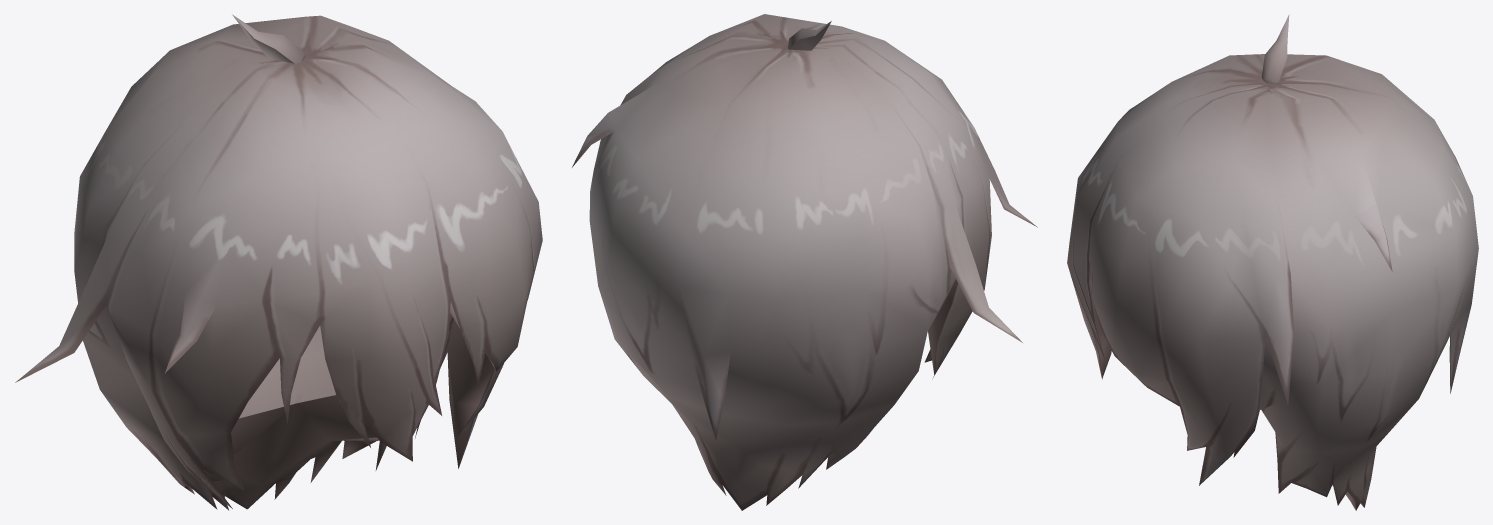
The model's file is hair_m_1.fbx.
The picture shows the model from 3 angles, left to right: view 1: azimuth 30°, elevation 25°; view 2: azimuth 150°, elevation 25°; view 3: azimuth 270°, elevation 25°; orthographic projection. The views are drawn at different scales.
Parts seen in each view (by area): view 1: hair_m_1; view 2: hair_m_1; view 3: hair_m_1.
Part boxes in pixels (x1=…): hair_m_1: x1=15, y1=14, x2=542, y2=510; hair_m_1: x1=572, y1=14, x2=1037, y2=510; hair_m_1: x1=1067, y1=14, x2=1478, y2=510.
Size of the model in its own units: 37.77 by 40.21 by 31.99.
